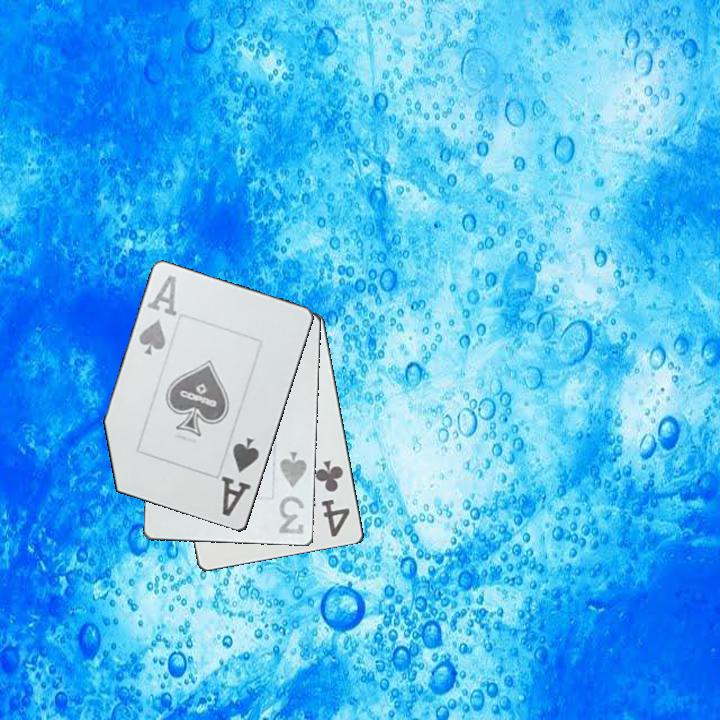3s: (276, 448, 310, 540)
4c: (312, 457, 353, 540)
As: (135, 271, 180, 358), (218, 434, 262, 520)
